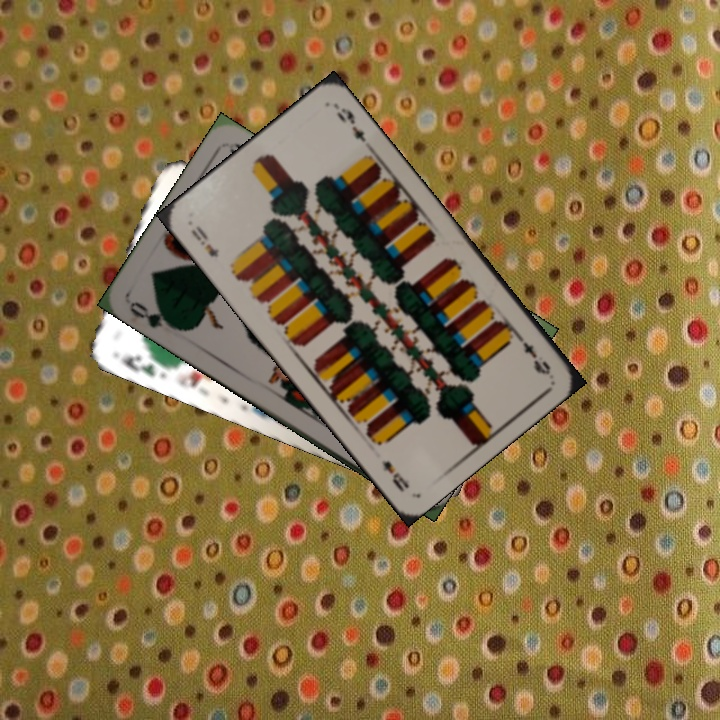E9: (511, 328, 554, 378), (187, 221, 222, 260)
GK: (116, 351, 169, 380)
GO: (125, 297, 182, 333)
